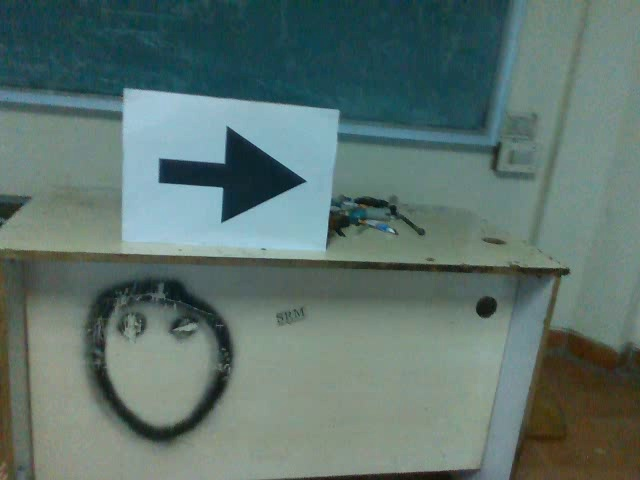Right: (146, 112, 313, 235)
